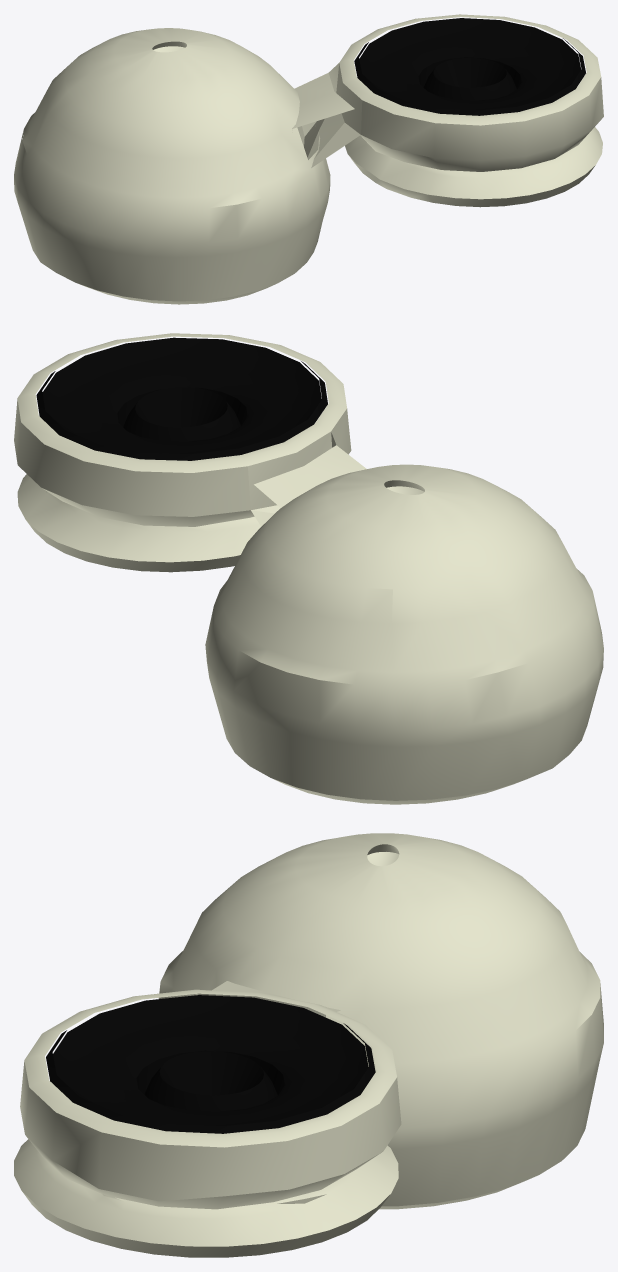
Rendered from earbud.gltf.
The picture shows the model from 3 angles, top to bottom: view 1: azimuth 30°, elevation 25°; view 2: azimuth 150°, elevation 25°; view 3: azimuth 270°, elevation 25°; orthographic projection. The views are drawn at different scales.
Parts seen in each view (by area): view 1: Battery, Exterior1, Interior, BackSpeaker, Sphere, Exterior; view 2: Battery, Exterior1, Interior, BackSpeaker, Sphere, Exterior; view 3: Battery, Exterior1, Interior, BackSpeaker, Sphere, Exterior.
Boxes of the visible parts, x1,y1,x2,y2 form: Battery: [14, 28, 330, 304]; Exterior1: [292, 14, 603, 171]; Interior: [359, 18, 580, 110]; BackSpeaker: [345, 127, 602, 207]; Sphere: [423, 58, 516, 100]; Exterior: [354, 38, 585, 115]; Battery: [205, 464, 603, 804]; Exterior1: [14, 333, 366, 526]; Interior: [42, 337, 321, 453]; BackSpeaker: [17, 474, 260, 572]; Sphere: [123, 387, 240, 441]; Exterior: [36, 361, 327, 460]; Battery: [158, 833, 603, 1209]; Exterior1: [20, 981, 401, 1209]; Interior: [53, 995, 368, 1126]; BackSpeaker: [14, 1139, 398, 1257]; Sphere: [144, 1051, 277, 1111]; Exterior: [46, 1023, 375, 1133].
Bounding box in the file's own units: 0.792 × 0.3471 × 0.5912.
